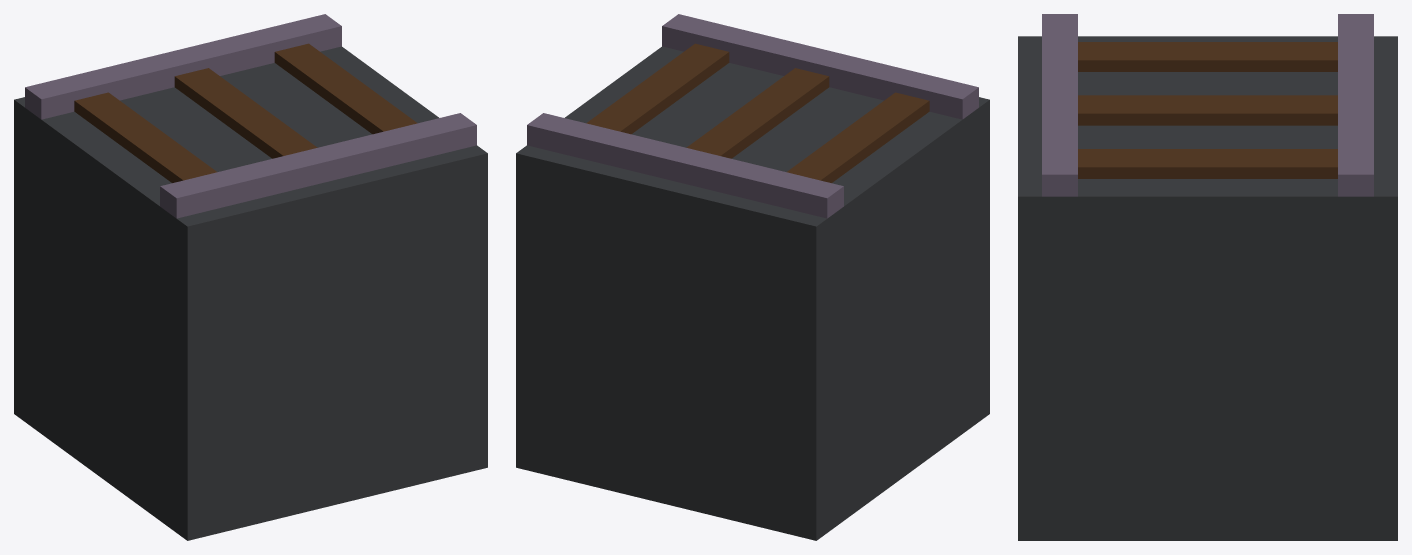
Rendered from Rail.glb.
3 views of the same model, side by side, from view 1: azimuth 30°, elevation 25°; view 2: azimuth 150°, elevation 25°; view 3: azimuth 270°, elevation 25° (orthographic). The views are drawn at different scales.
Parts seen in each view (by area): view 1: Cube.002; view 2: Cube.002; view 3: Cube.002.
Part boxes in pixels (left/top/right/bottom): Cube.002: left=14, top=14, right=487, bottom=540; Cube.002: left=516, top=14, right=989, bottom=540; Cube.002: left=1018, top=14, right=1397, bottom=540.
Size of the model in its own units: 2 by 2.13 by 2.
Materials: 1 (1 with a texture image).
